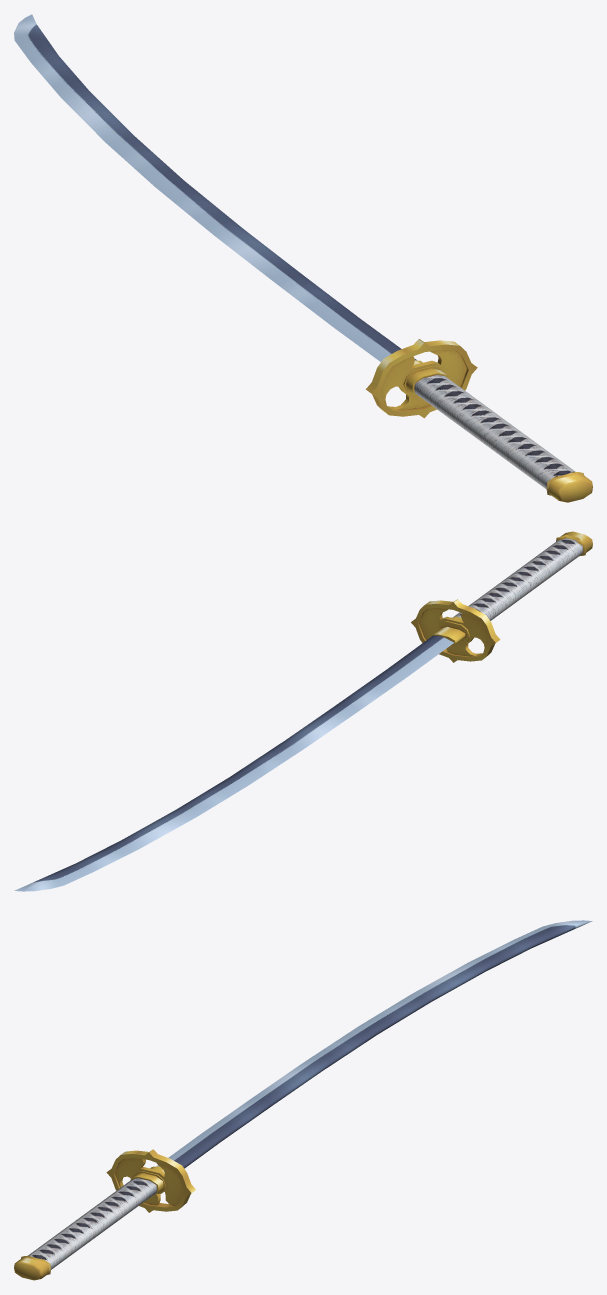
The model's file is sword_sakura_sword_sakura_sword.glb.
3 renders of one model, top to bottom at view 1: azimuth 30°, elevation 25°; view 2: azimuth 150°, elevation 25°; view 3: azimuth 330°, elevation 25°, orthographic. The views are drawn at different scales.
Bounding box in the file's own units: 0.1376 × 0.0743 × 1.11.
1 material, 1 textured.
